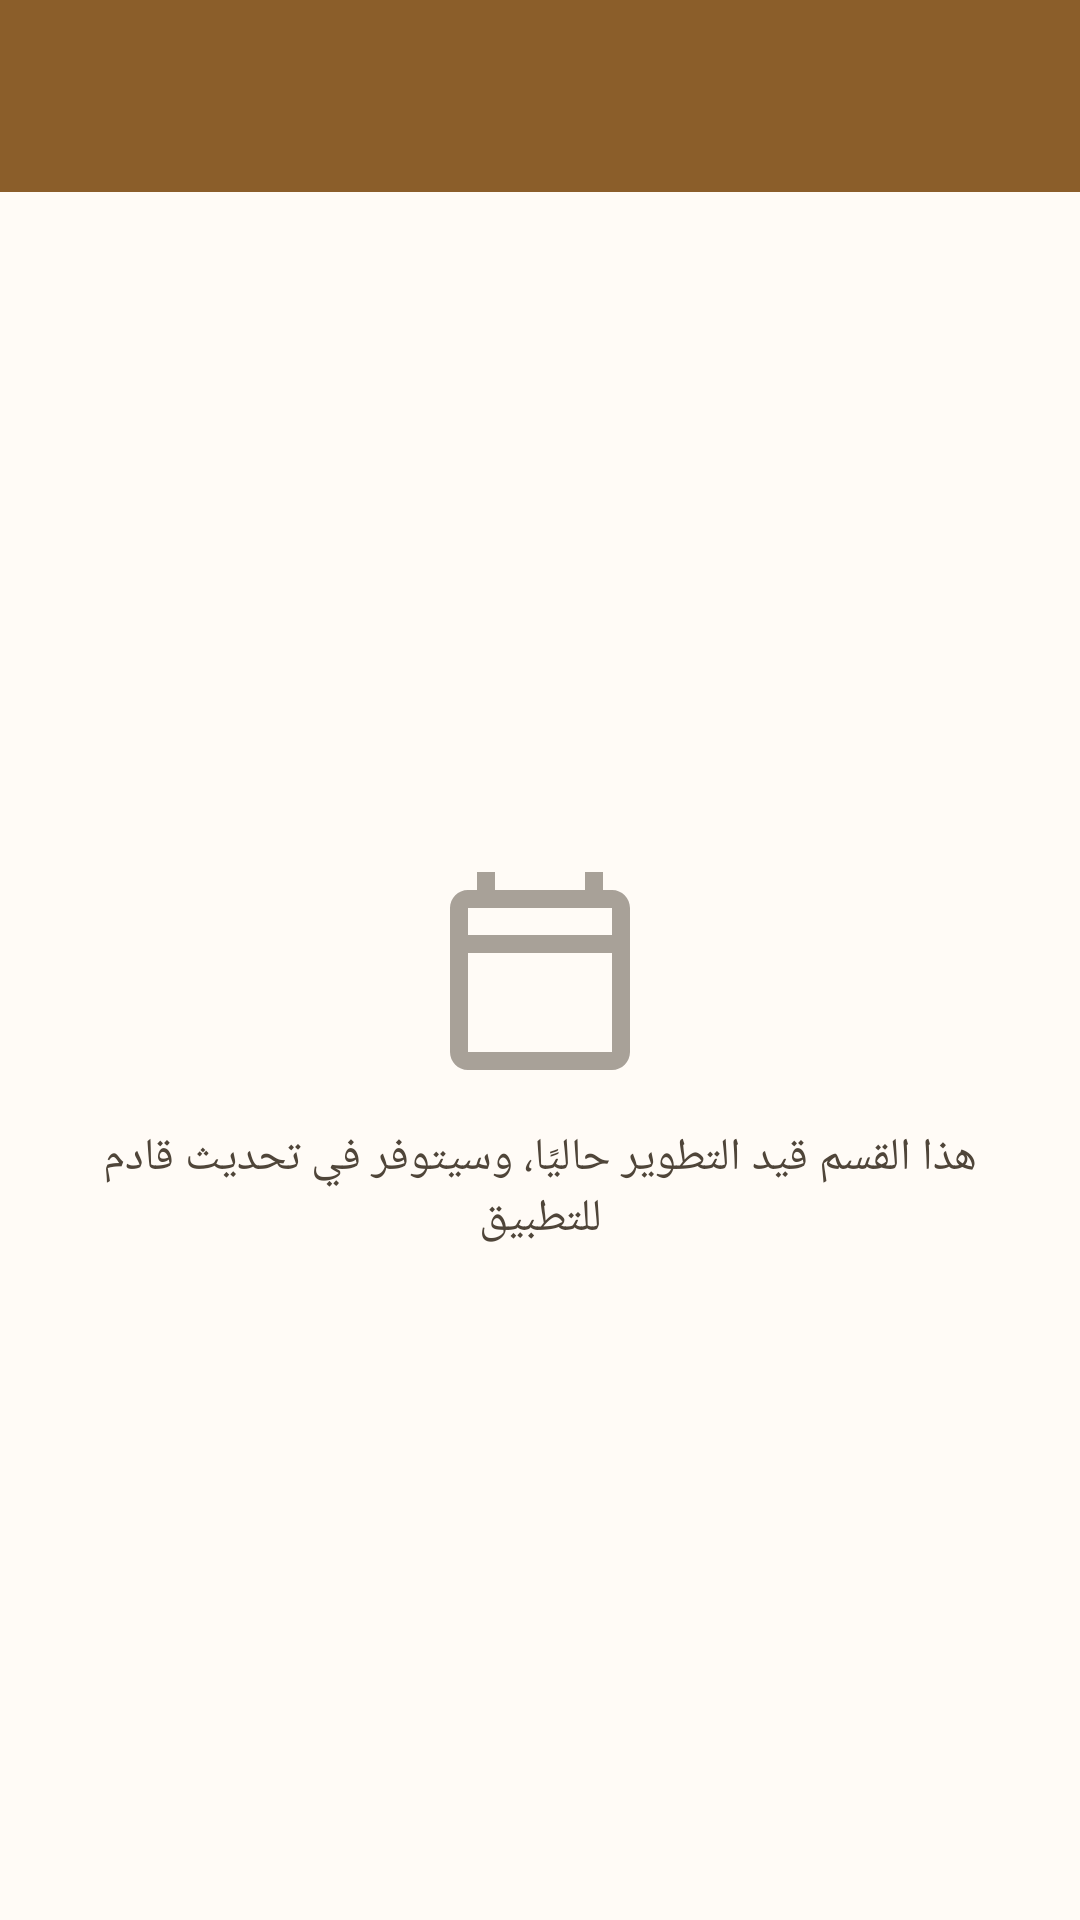

Icon click points for this 1080w x 1920h phone screenshot, format (x,y):
calendar: (540,971)
